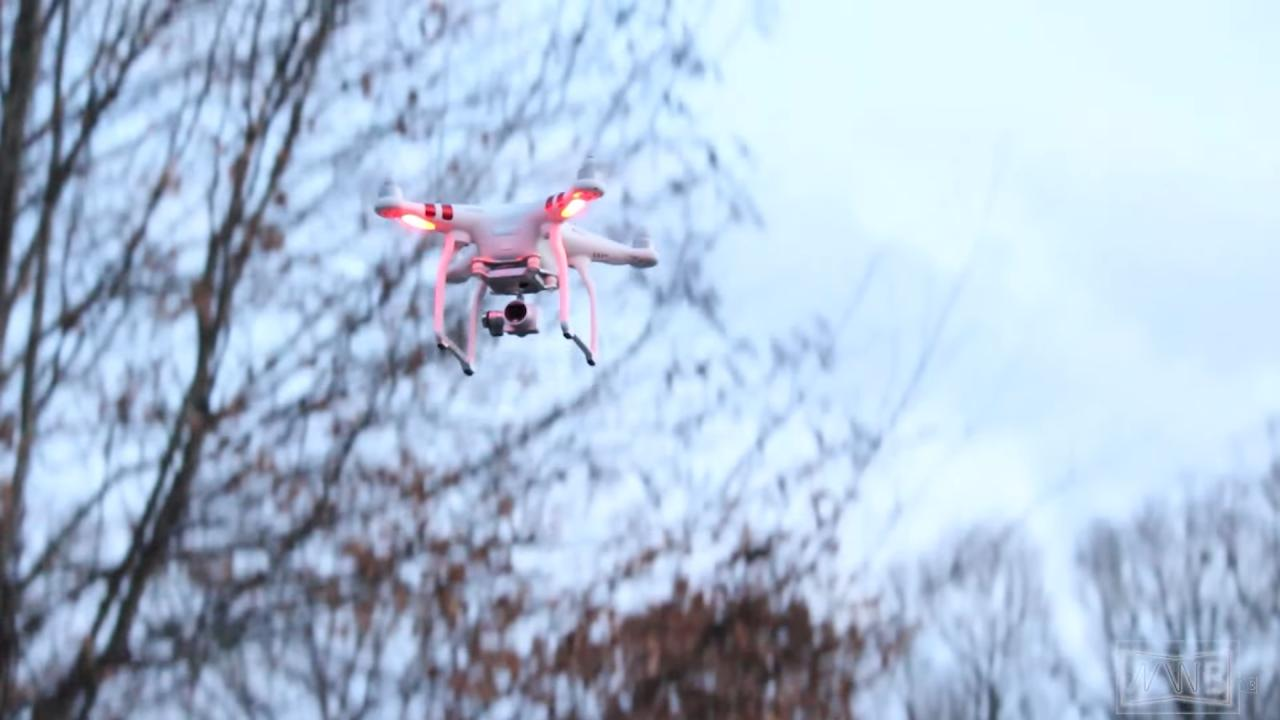Drone: (361, 163, 670, 384)
